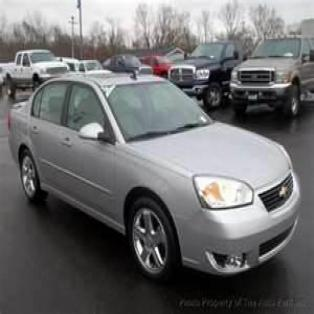Auto: (7, 43, 312, 306)
